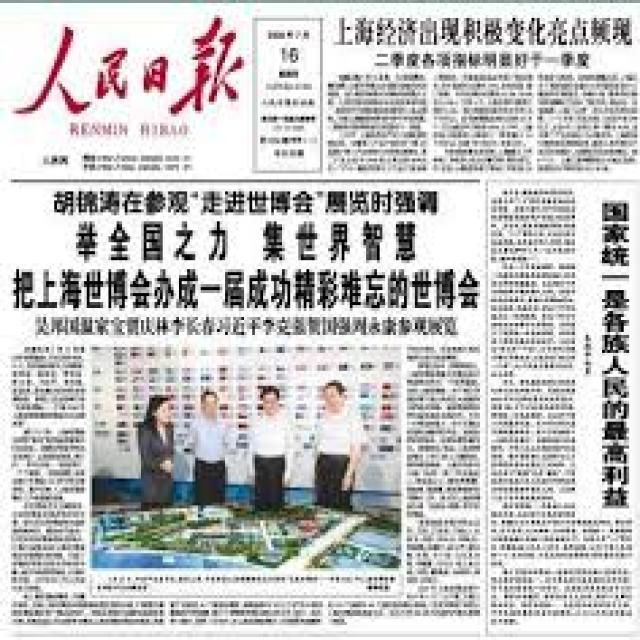paper: (6, 5, 632, 640)
